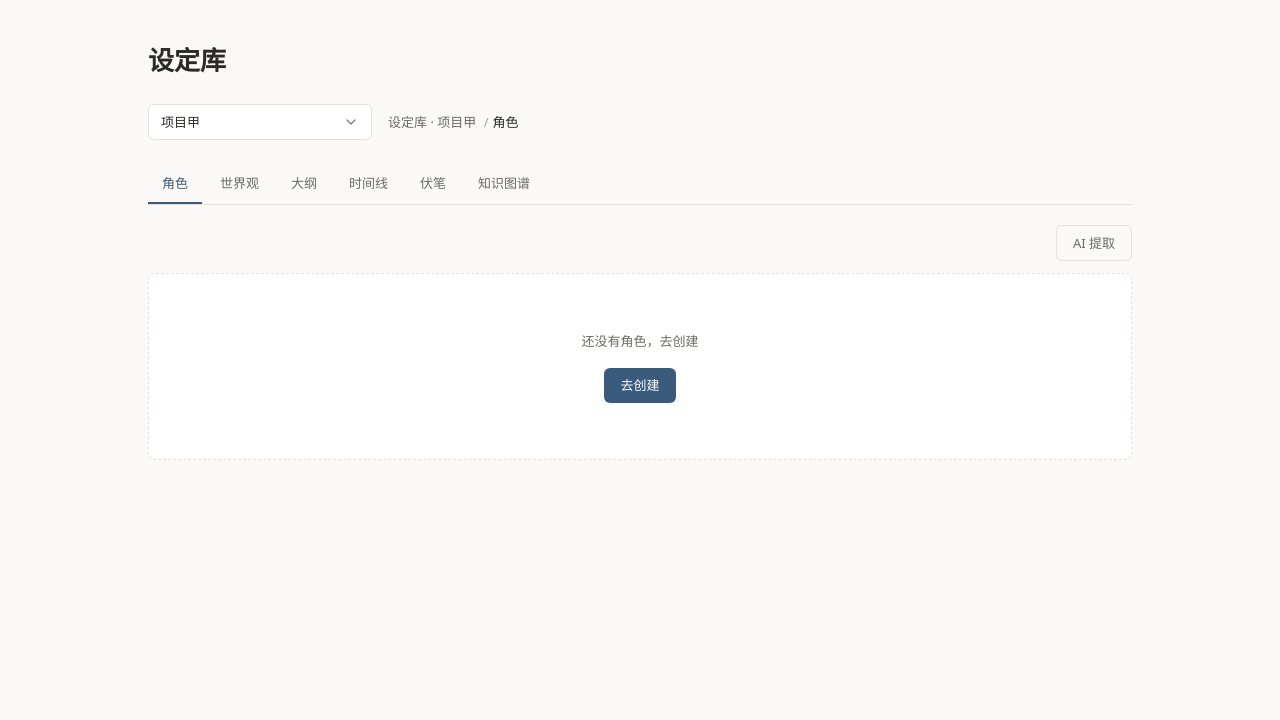
地图工作台修复契约（#973 快照刷新 / #978 删除钮重叠 / #979 pin 标签与点击） › P2【R】点击画布 pin：stopPropagation 不新增 pin（现状点击冒泡到画布 → 误弹新建 PinDialog）
This screenshot has width=1280, height=720.
What coordinates should you click on to do the following:
click the tab "世界观"
I would click on:
 (240, 184)
Its box is [206,164,273,204].
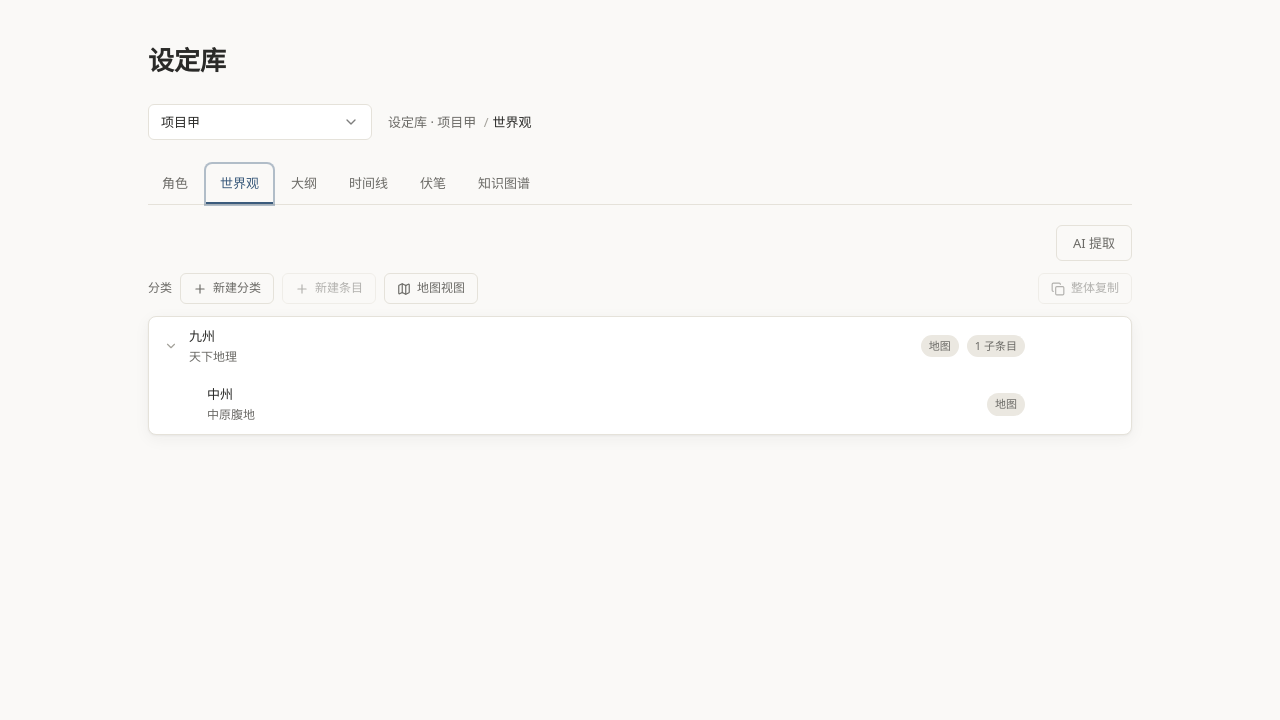
Expected: the element with test id "library-list" is shown, [148,316,1132,435]
What coordinates should you click on to do the following:
click the button with test id "map-view-entry"
I would click on:
 (431, 289)
Its box is [384,273,478,304].
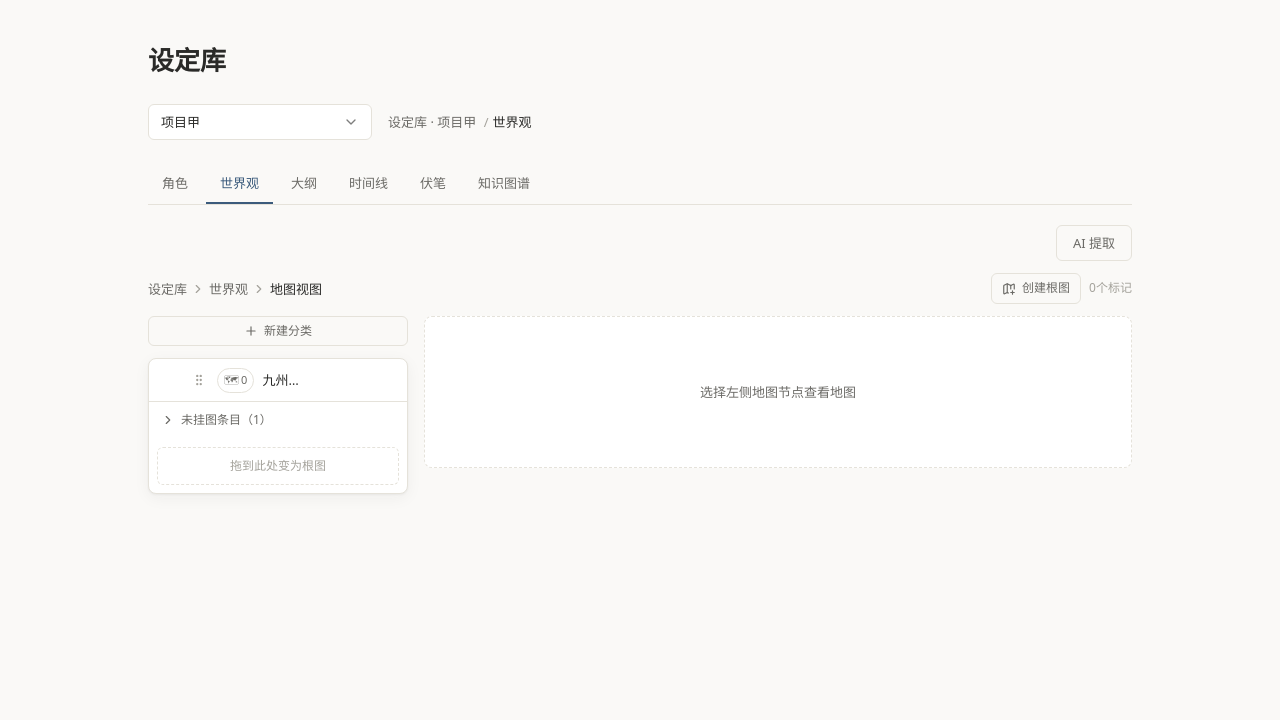
Expected: the element with test id "map-workbench" is shown, [148,273,1132,506]
What coordinates should you click on to do the following:
click the button with test id "world-map-badge-w1"
I would click on:
 (236, 380)
Its box is [217,368,254,392].
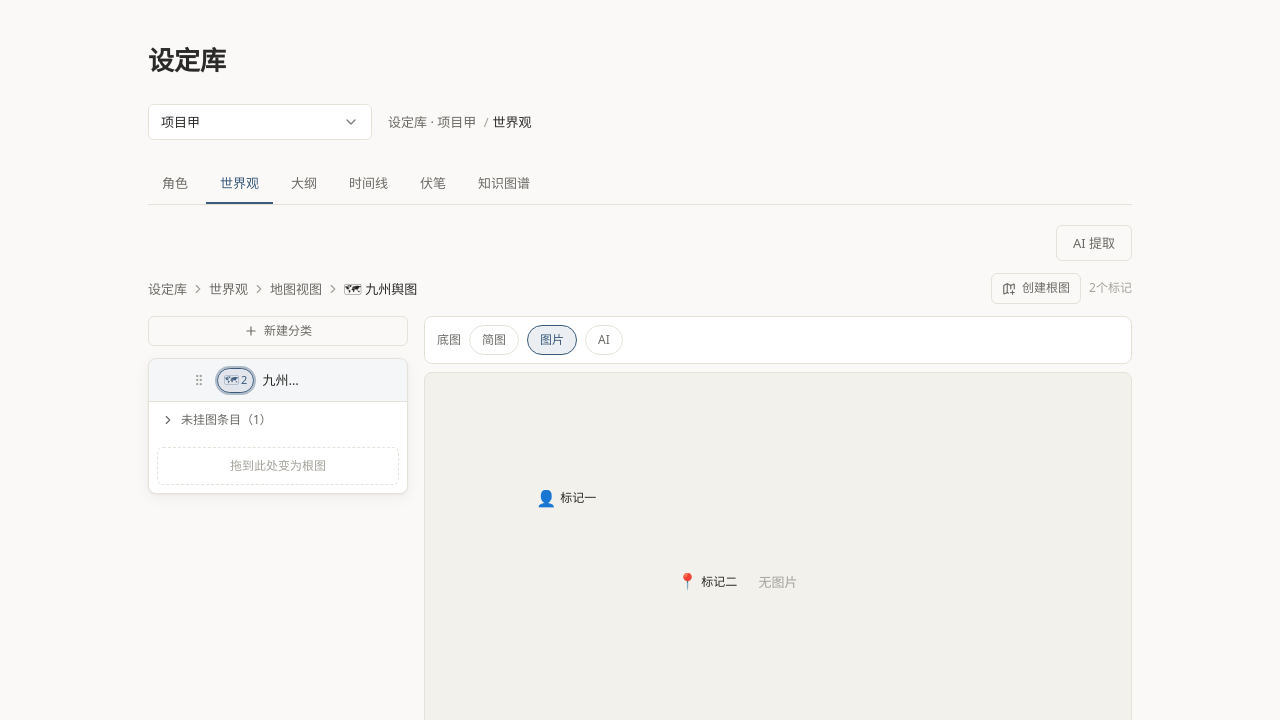
What coordinates should you click on to do the following:
click the element with test id "map-pin-p1"
I would click on:
 (566, 499)
Its box is [536,485,596,512].
(page scrolled)
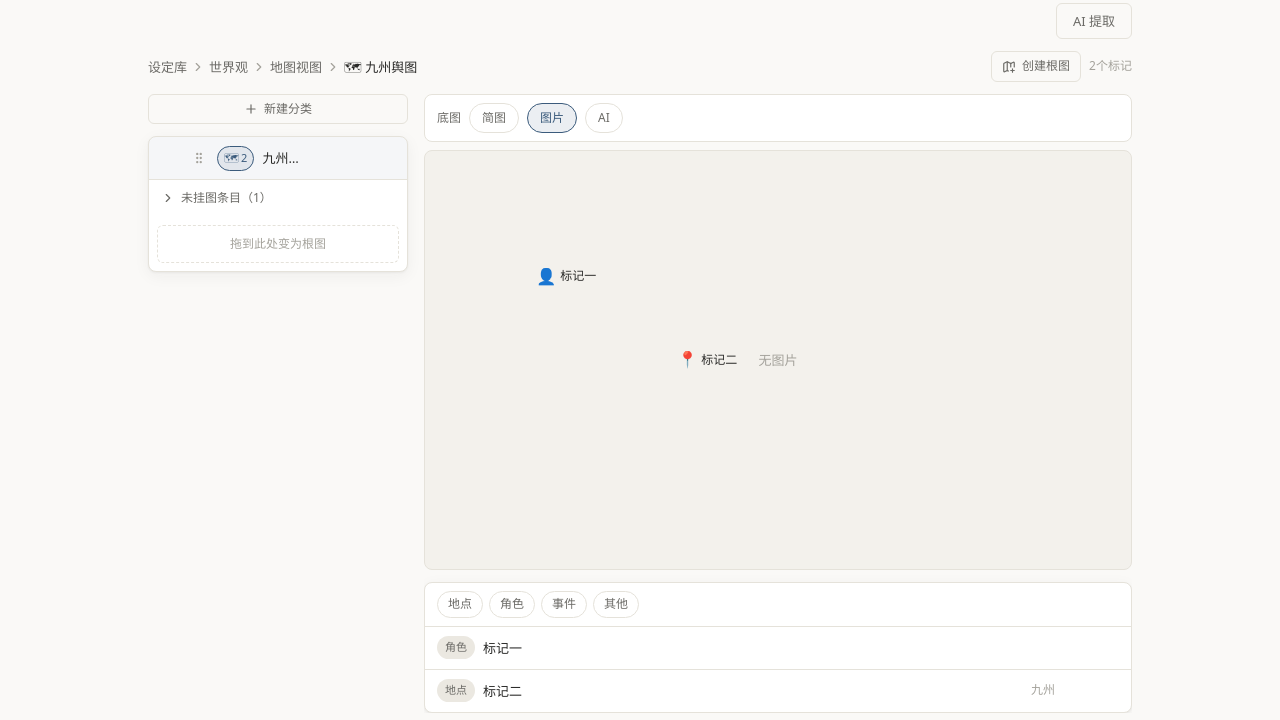
What coordinates should you click on to do the following:
click the element with test id "map-canvas"
I would click on:
 (778, 360)
Its box is [424,150,1132,570].
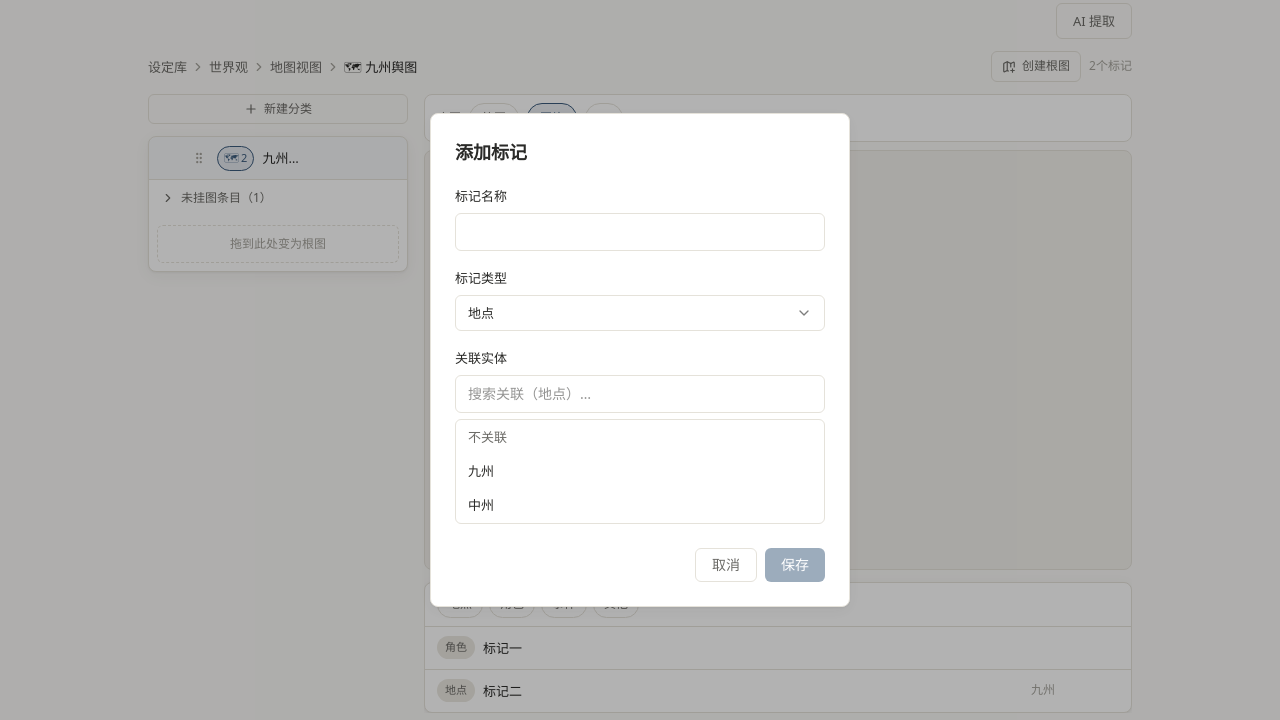
Expected: the dialog with test id "pin-dialog" is shown, [430,113,850,607]
